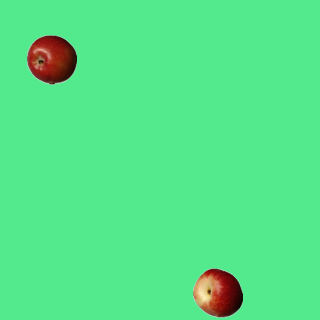Apple Braeburn: (26, 34, 76, 84)
Nectarine: (192, 267, 242, 317)
